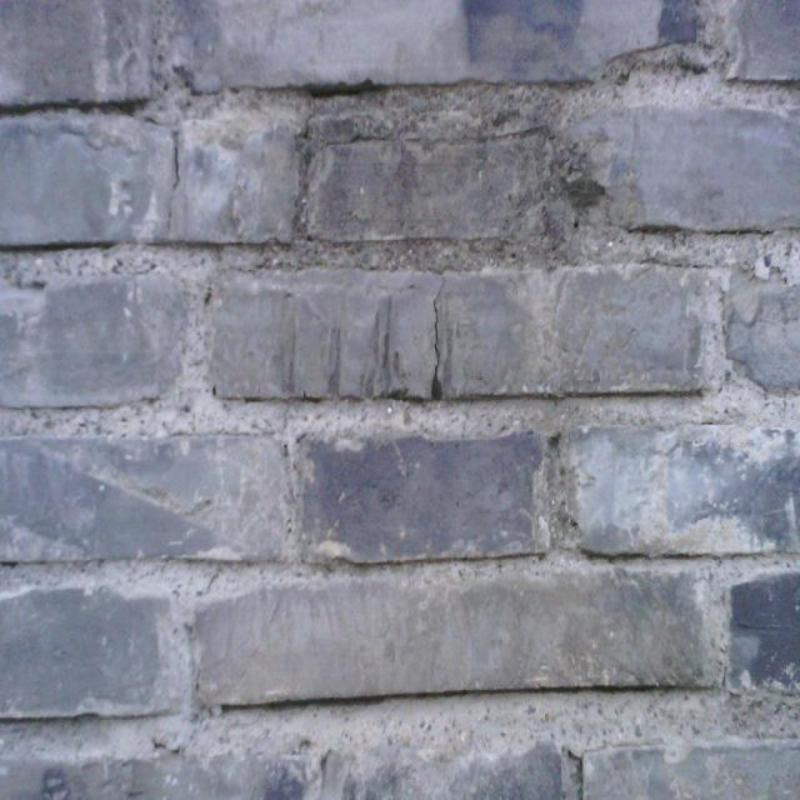crack: (431, 278, 445, 400), (170, 131, 182, 196)
